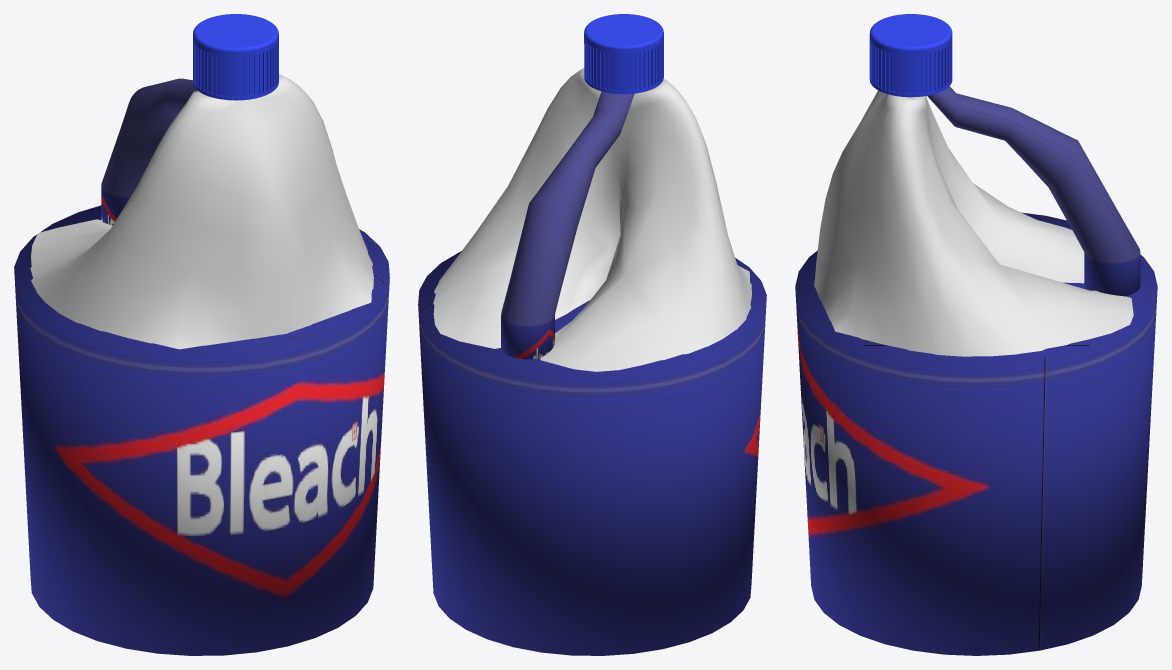
Rendered from Bleach.fbx.
3 renders of one model, left to right at view 1: azimuth 30°, elevation 25°; view 2: azimuth 150°, elevation 25°; view 3: azimuth 270°, elevation 25°, orthographic. The views are drawn at different scales.
Visible parts, largest first — view 1: Cylinder, Cylinder.002, bottle cap lid; view 2: Cylinder, Cylinder.002, bottle cap lid; view 3: Cylinder, Cylinder.002, bottle cap lid.
Boxes of the visible parts, left/top/right/bottom form: Cylinder: left=14, top=78, right=389, bottom=655; Cylinder.002: left=30, top=74, right=373, bottom=349; bottle cap lid: left=193, top=14, right=278, bottom=100; Cylinder: left=418, top=91, right=766, bottom=655; Cylinder.002: left=433, top=68, right=751, bottom=371; bottle cap lid: left=584, top=14, right=663, bottom=94; Cylinder: left=795, top=86, right=1157, bottom=655; Cylinder.002: left=814, top=90, right=1133, bottom=356; bottle cap lid: left=869, top=14, right=952, bottom=97.
Size of the model in its own units: 219 by 371 by 219.
2 materials, 1 textured.
